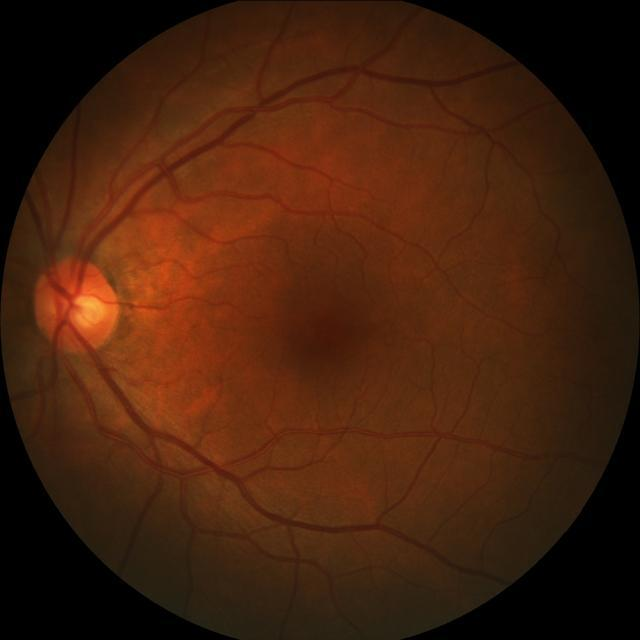OC: (69, 296, 106, 328)
OD: (30, 255, 116, 353)
